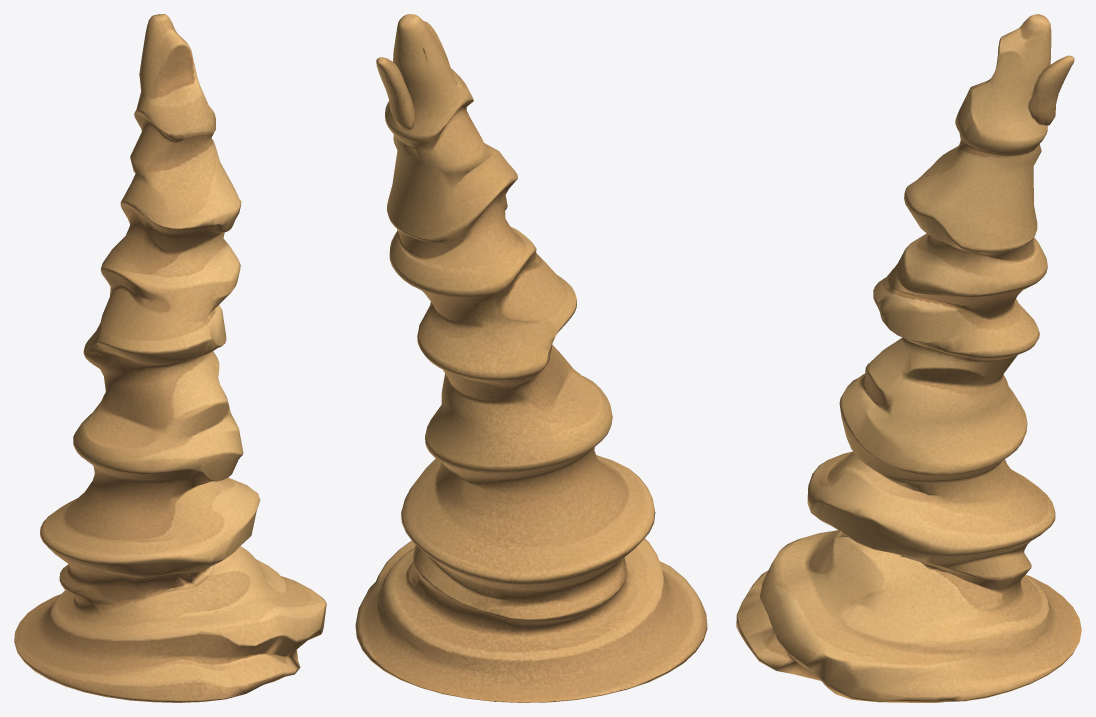
The model's file is tripo_convert_7b46907a-4e6e-482f-bd7d-ee3c87109124.fbx.
3 views of the same model, side by side, from view 1: azimuth 30°, elevation 25°; view 2: azimuth 150°, elevation 25°; view 3: azimuth 270°, elevation 25° (orthographic). The views are drawn at different scales.
Parts seen in each view (by area): view 1: tripo_node_7b46907a; view 2: tripo_node_7b46907a; view 3: tripo_node_7b46907a.
Boxes of the visible parts, x1,y1,x2,y2 form: tripo_node_7b46907a: [14, 14, 326, 702]; tripo_node_7b46907a: [355, 14, 707, 702]; tripo_node_7b46907a: [736, 14, 1081, 702].
Size of the model in its own units: 0.4917 by 0.9995 by 0.4868.
Materials: 1 (1 with a texture image).
